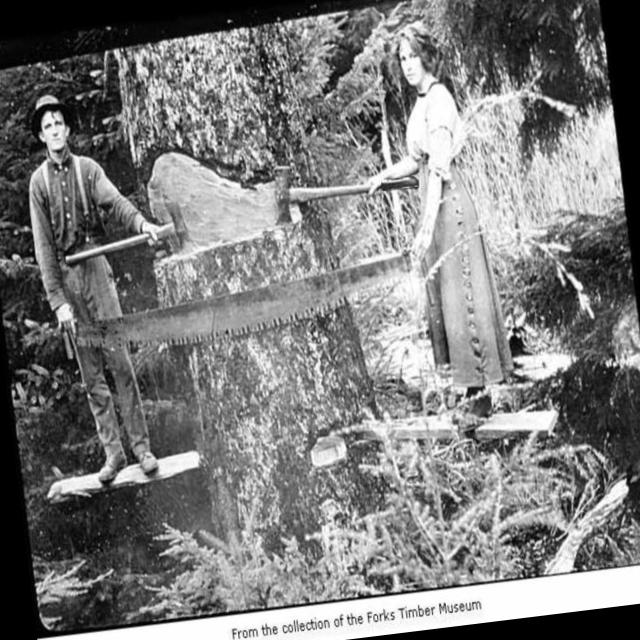Axe: (274, 165, 369, 223), (64, 232, 149, 264), (156, 201, 190, 247), (382, 178, 417, 190)
